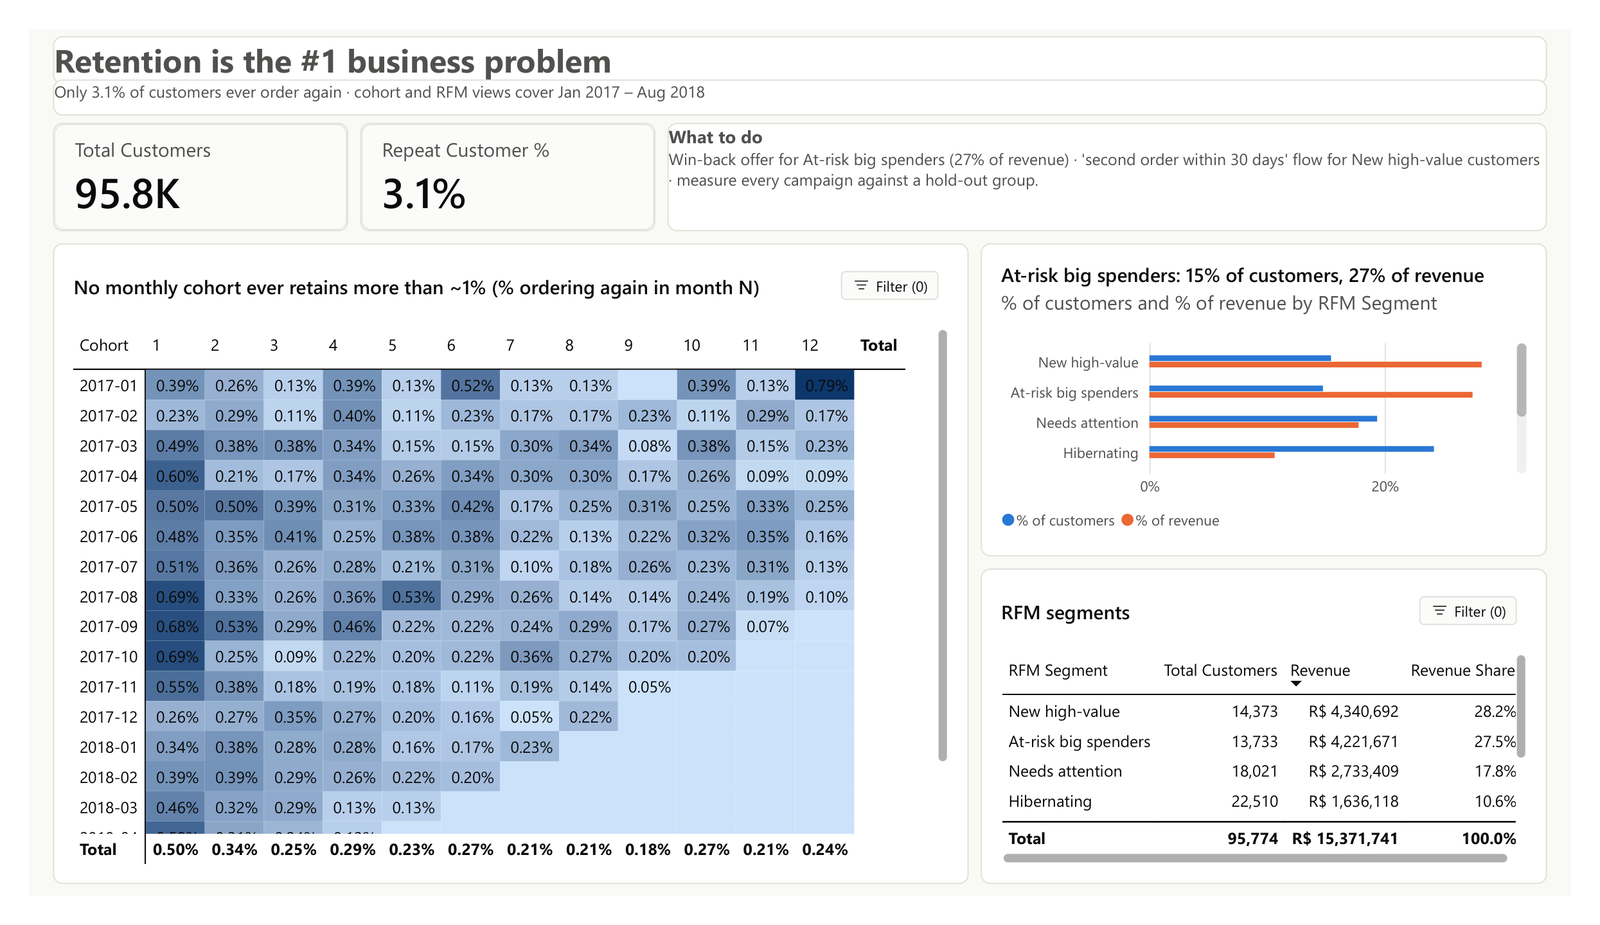

What the dashboard file says about the page in this screenshot:
{"tool":"powerbi","page":{"name":"Customers & Retention","canvas":[1280,720],"ordinal":2},"visuals":[{"type":"textbox","box":[20,6,1240,40],"z":0},{"type":"textbox","box":[20,42,1240,30],"z":1},{"type":"cardVisual","fields":{"Data":["Orders.Total Customers KPI"]},"box":[20,78,245,90],"z":2},{"type":"cardVisual","fields":{"Data":["Orders.Repeat Customer %"]},"box":[275,78,245,90],"z":3},{"type":"textbox","box":[530,78,730,90],"z":4},{"type":"pivotTable","title":"No monthly cohort ever retains more than ~1% (% ordering again in month N)","fields":{"Columns":["Cohort Retention.Months Since First Order"],"Rows":["Cohort Retention.Cohort"],"Values":["Orders.Retention Rate (M1-12)"]},"box":[20,178,760,532],"z":5},{"type":"clusteredBarChart","title":"At-risk big spenders: 15% of customers, 27% of revenue","fields":{"Category":["Customers.RFM Segment"],"Y":["Orders.Customer Share","Orders.Revenue Share"]},"box":[790,178,470,260],"z":6},{"type":"tableEx","title":"RFM segments","fields":{"Values":["Customers.RFM Segment","Orders.Total Customers","Orders.Revenue","Orders.Revenue Share"]},"box":[790,448,470,262],"z":7}]}

Visuals, with their boxes in screenshot pixels (x1, y1, x2, y2), scaled from the page's 1280x720 canvas onto the 1600x925 screenshot:
textbox: (25,8,1575,59)
textbox: (25,54,1575,92)
cardVisual - Orders.Total Customers KPI: (25,100,331,216)
cardVisual - Orders.Repeat Customer %: (344,100,650,216)
textbox: (662,100,1575,216)
"No monthly cohort ever retains more than ~1% (% ordering again in month N)" pivotTable: (25,229,975,912)
"At-risk big spenders: 15% of customers, 27% of revenue" clusteredBarChart: (988,229,1575,563)
"RFM segments" tableEx: (988,576,1575,912)
